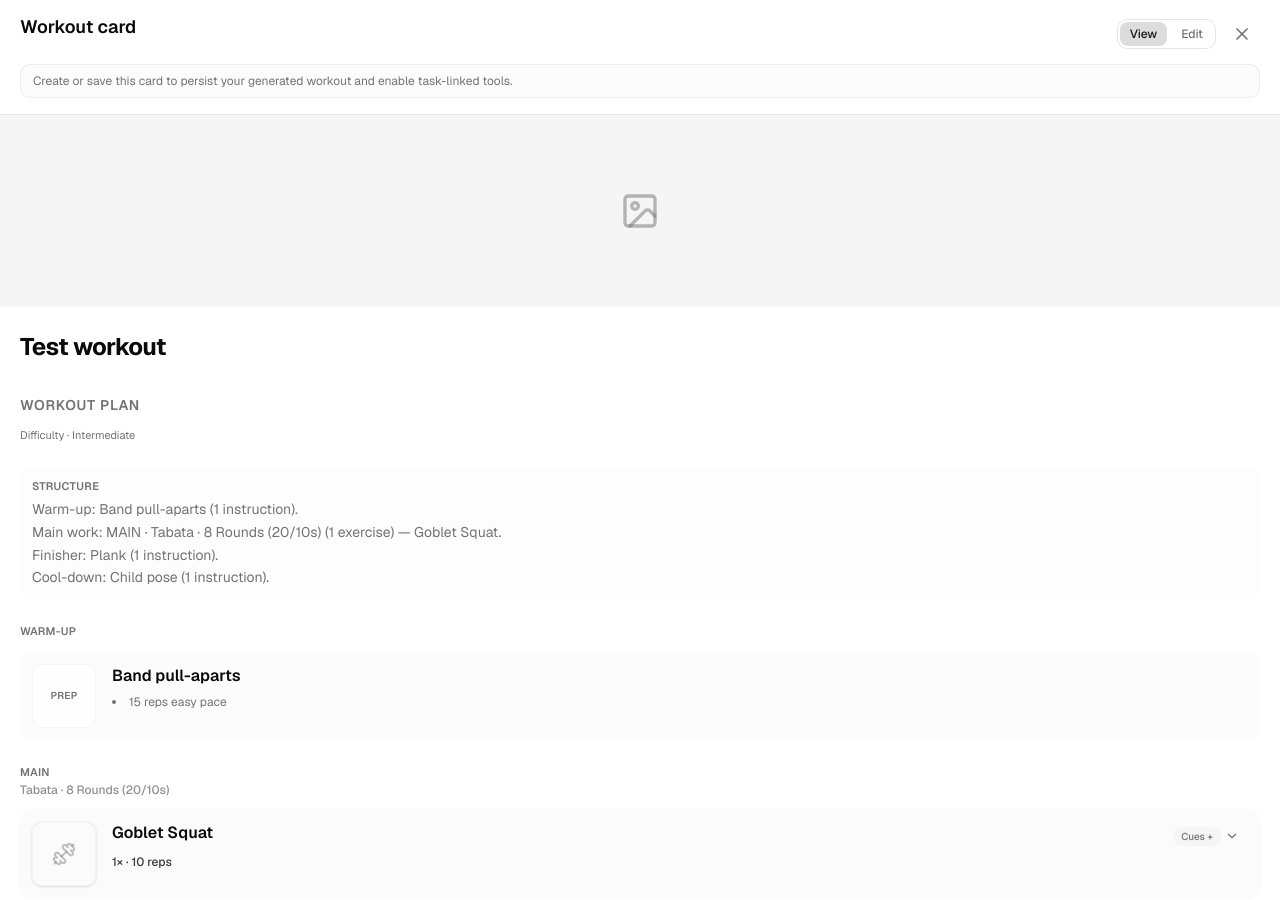
Test: WorkoutViewerContent edit mode › View tab discards edits and returns to view mode without closing
Click the button "Edit" at (1192, 34), box x1=1171 y1=22 x2=1213 y2=46
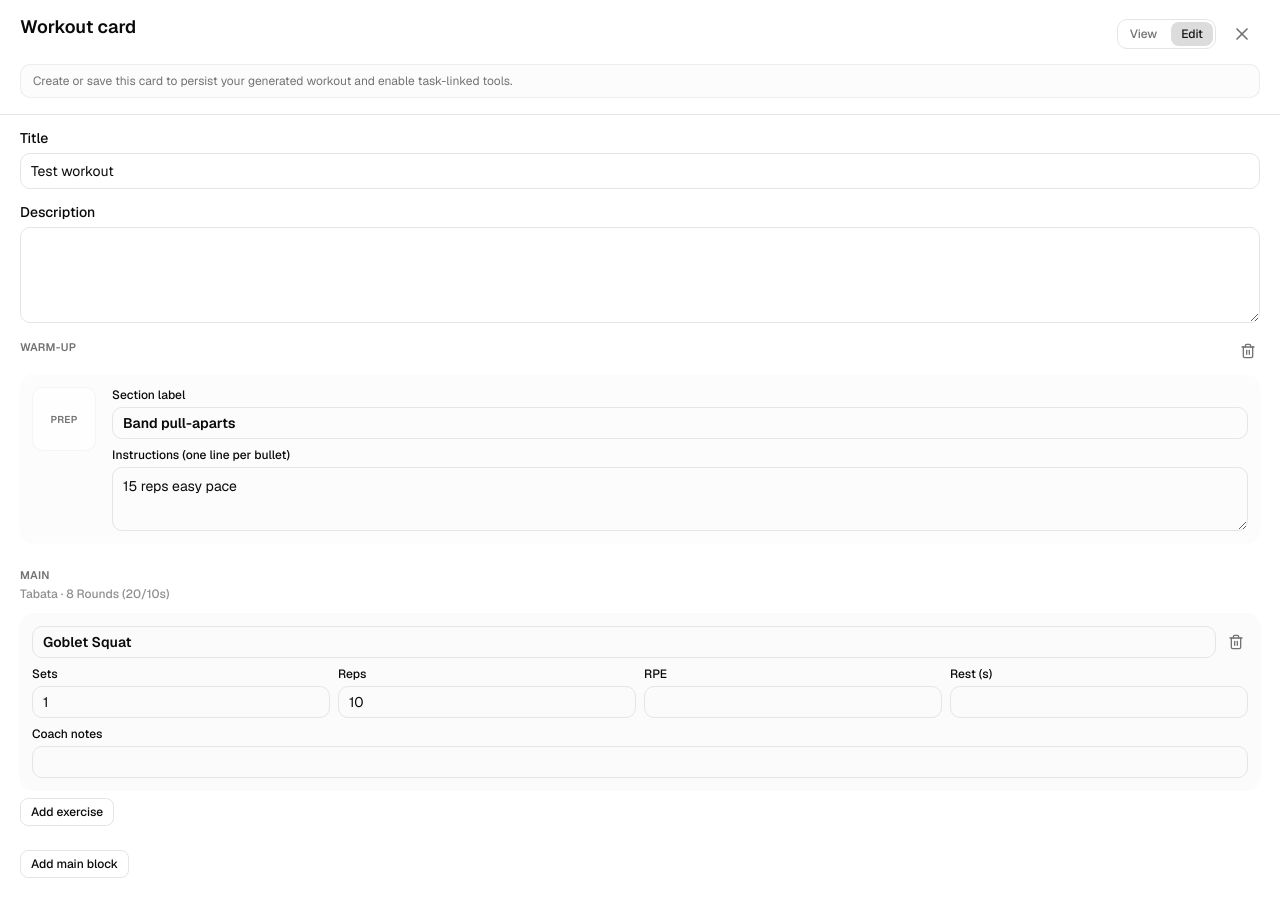
Replace the text in the field labelled "Title" with "Changed title" at (640, 171), box x1=20 y1=153 x2=1260 y2=189
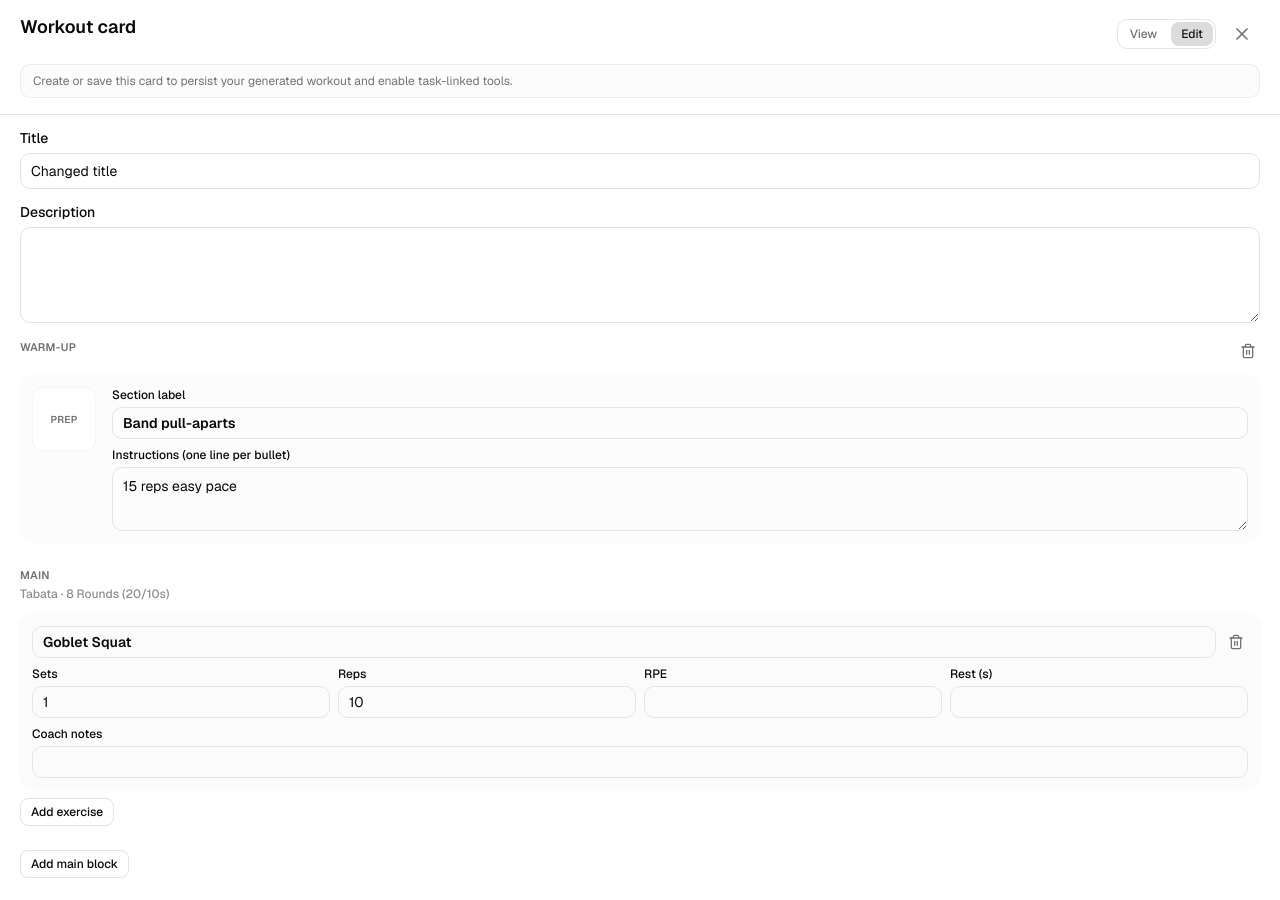
Click the button "View" at (1144, 34), box x1=1120 y1=22 x2=1167 y2=46
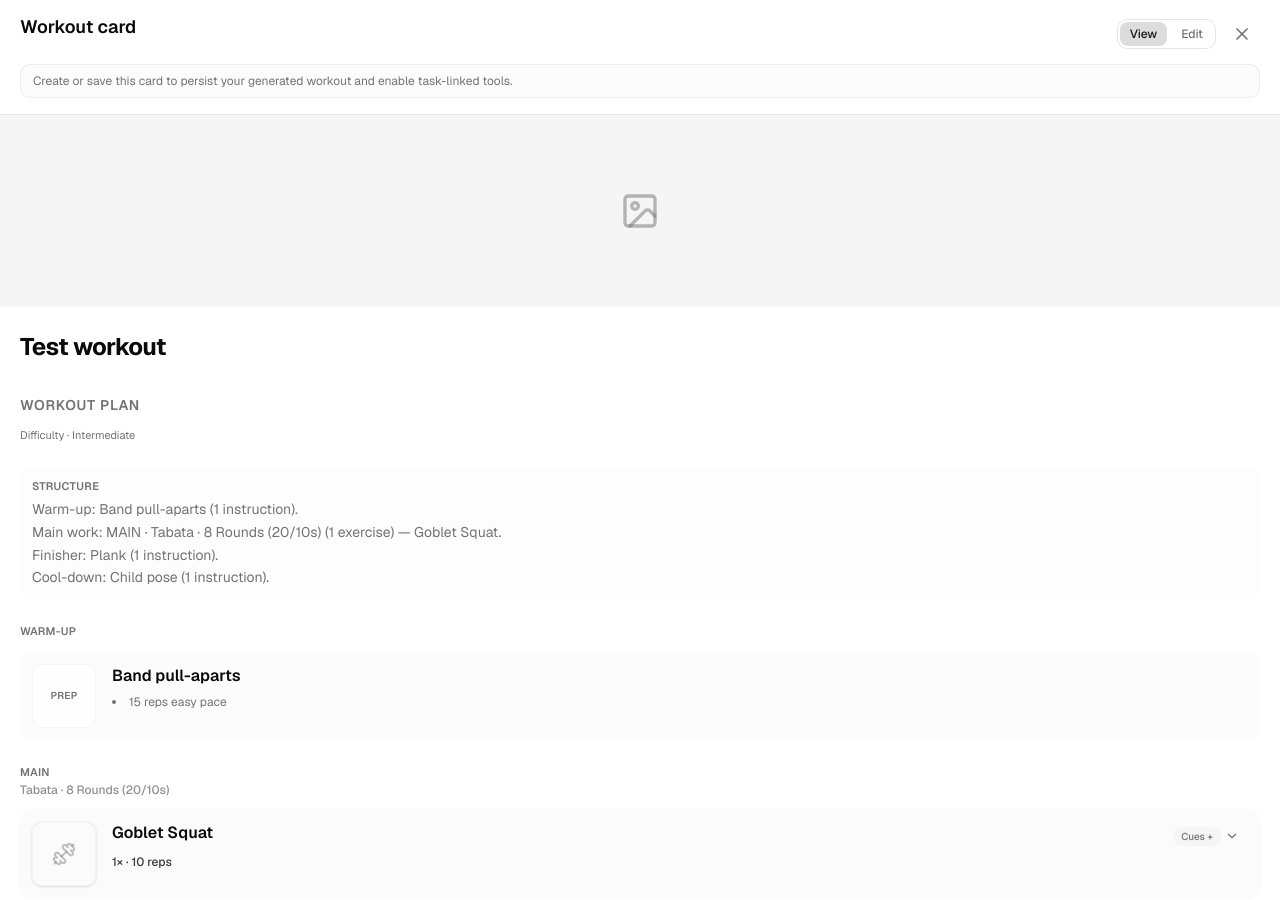
Now the label labelled "Title" is gone
Now the heading "Test workout" is shown, box x1=20 y1=331 x2=166 y2=362
